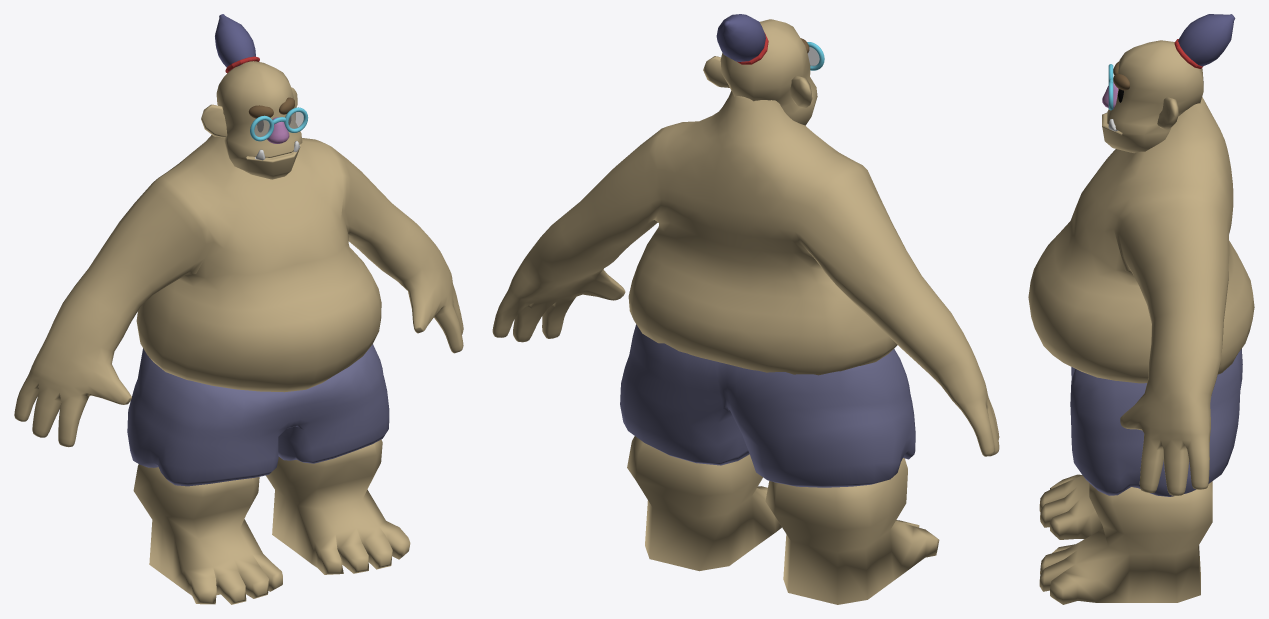
The model's file is ogre02_v001.fbx.
The picture shows the model from 3 angles, left to right: view 1: azimuth 30°, elevation 25°; view 2: azimuth 150°, elevation 25°; view 3: azimuth 270°, elevation 25°; orthographic projection. The views are drawn at different scales.
Visible parts, largest first — view 1: ogre02_mdl; view 2: ogre02_mdl; view 3: ogre02_mdl.
Part boxes in pixels (x1,y1,x2,y2): ogre02_mdl: [14, 14, 463, 604]; ogre02_mdl: [492, 14, 999, 604]; ogre02_mdl: [1028, 14, 1254, 604].
Size of the model in its own units: 274 by 300 by 114.
